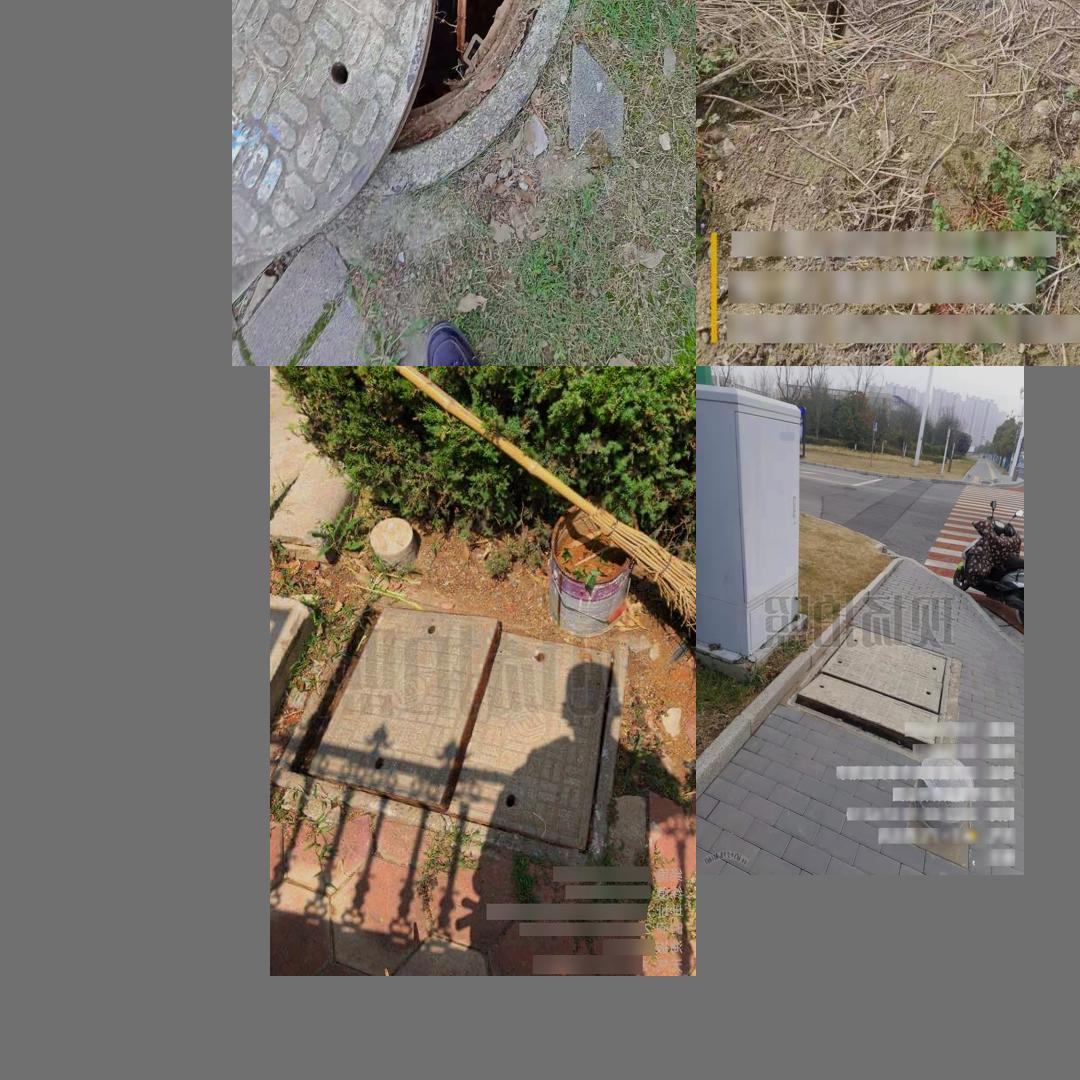uncovered: (274, 599, 628, 873), (232, 0, 586, 267), (791, 627, 951, 753), (706, 0, 1080, 9)
